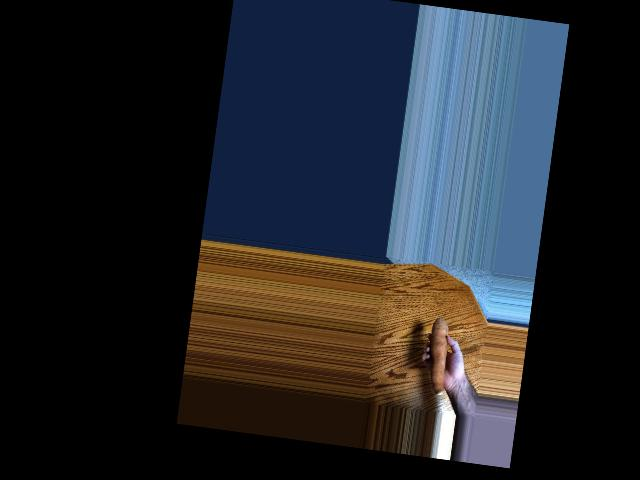sweet_potato: (418, 313, 452, 392)
